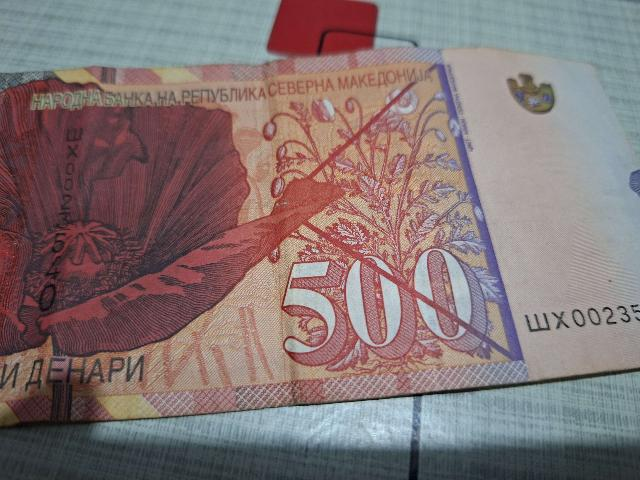500_note: (0, 49, 639, 424)
